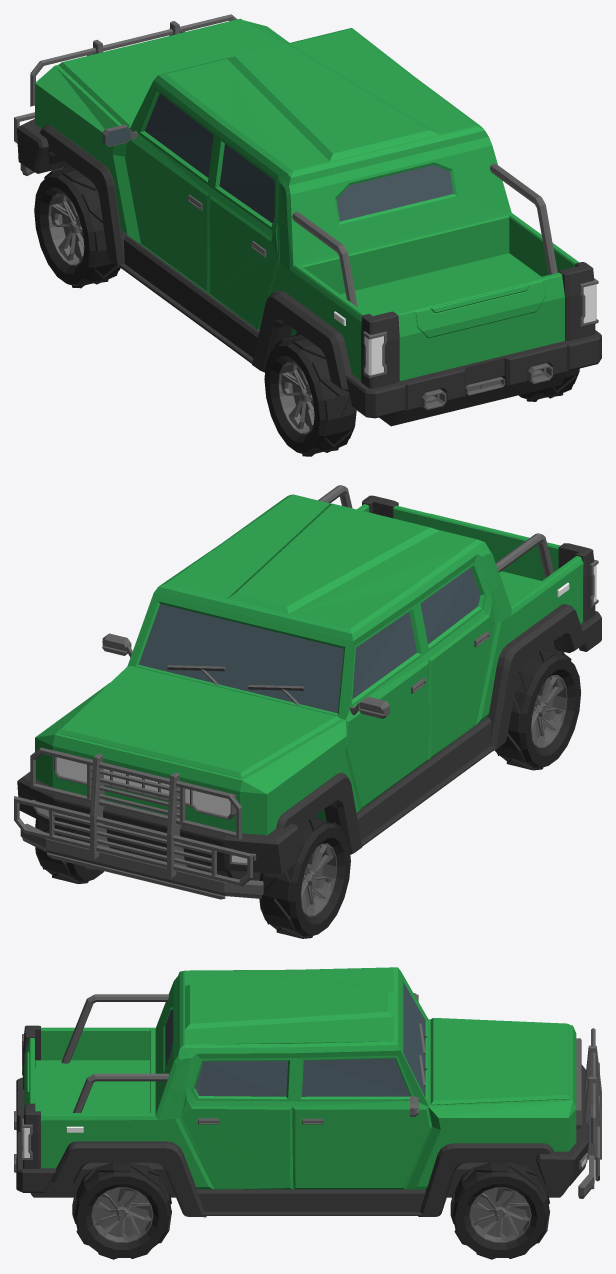
File: lp-suv-orange.glb
The picture shows the model from 3 angles, top to bottom: view 1: azimuth 30°, elevation 25°; view 2: azimuth 150°, elevation 25°; view 3: azimuth 270°, elevation 25°; orthographic projection. The views are drawn at different scales.
Visible parts, largest first — view 1: lp-suv-orange; view 2: lp-suv-orange; view 3: lp-suv-orange.
Boxes of the visible parts, x1,y1,x2,y2 form: lp-suv-orange: (14,14,601,456); lp-suv-orange: (14,485,601,938); lp-suv-orange: (14,967,601,1259).
Size of the model in its own units: 2.29 by 1.95 by 5.
1 material, 1 textured.
